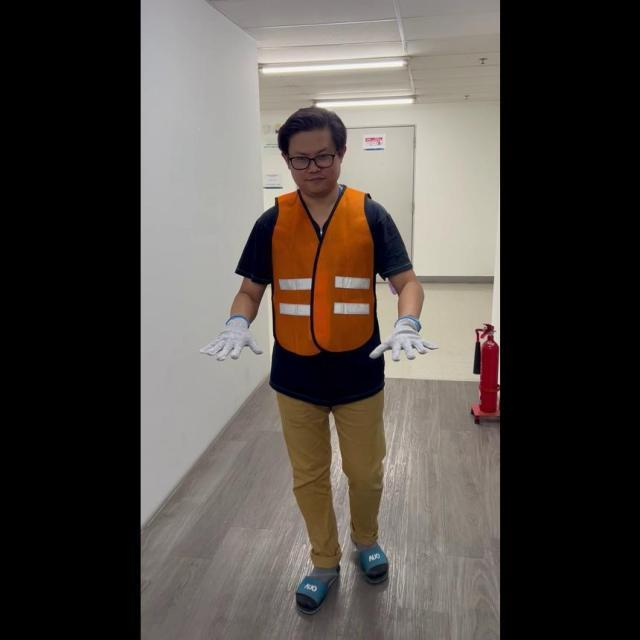gloved_hand: (366, 312, 433, 363), (198, 312, 261, 364)
